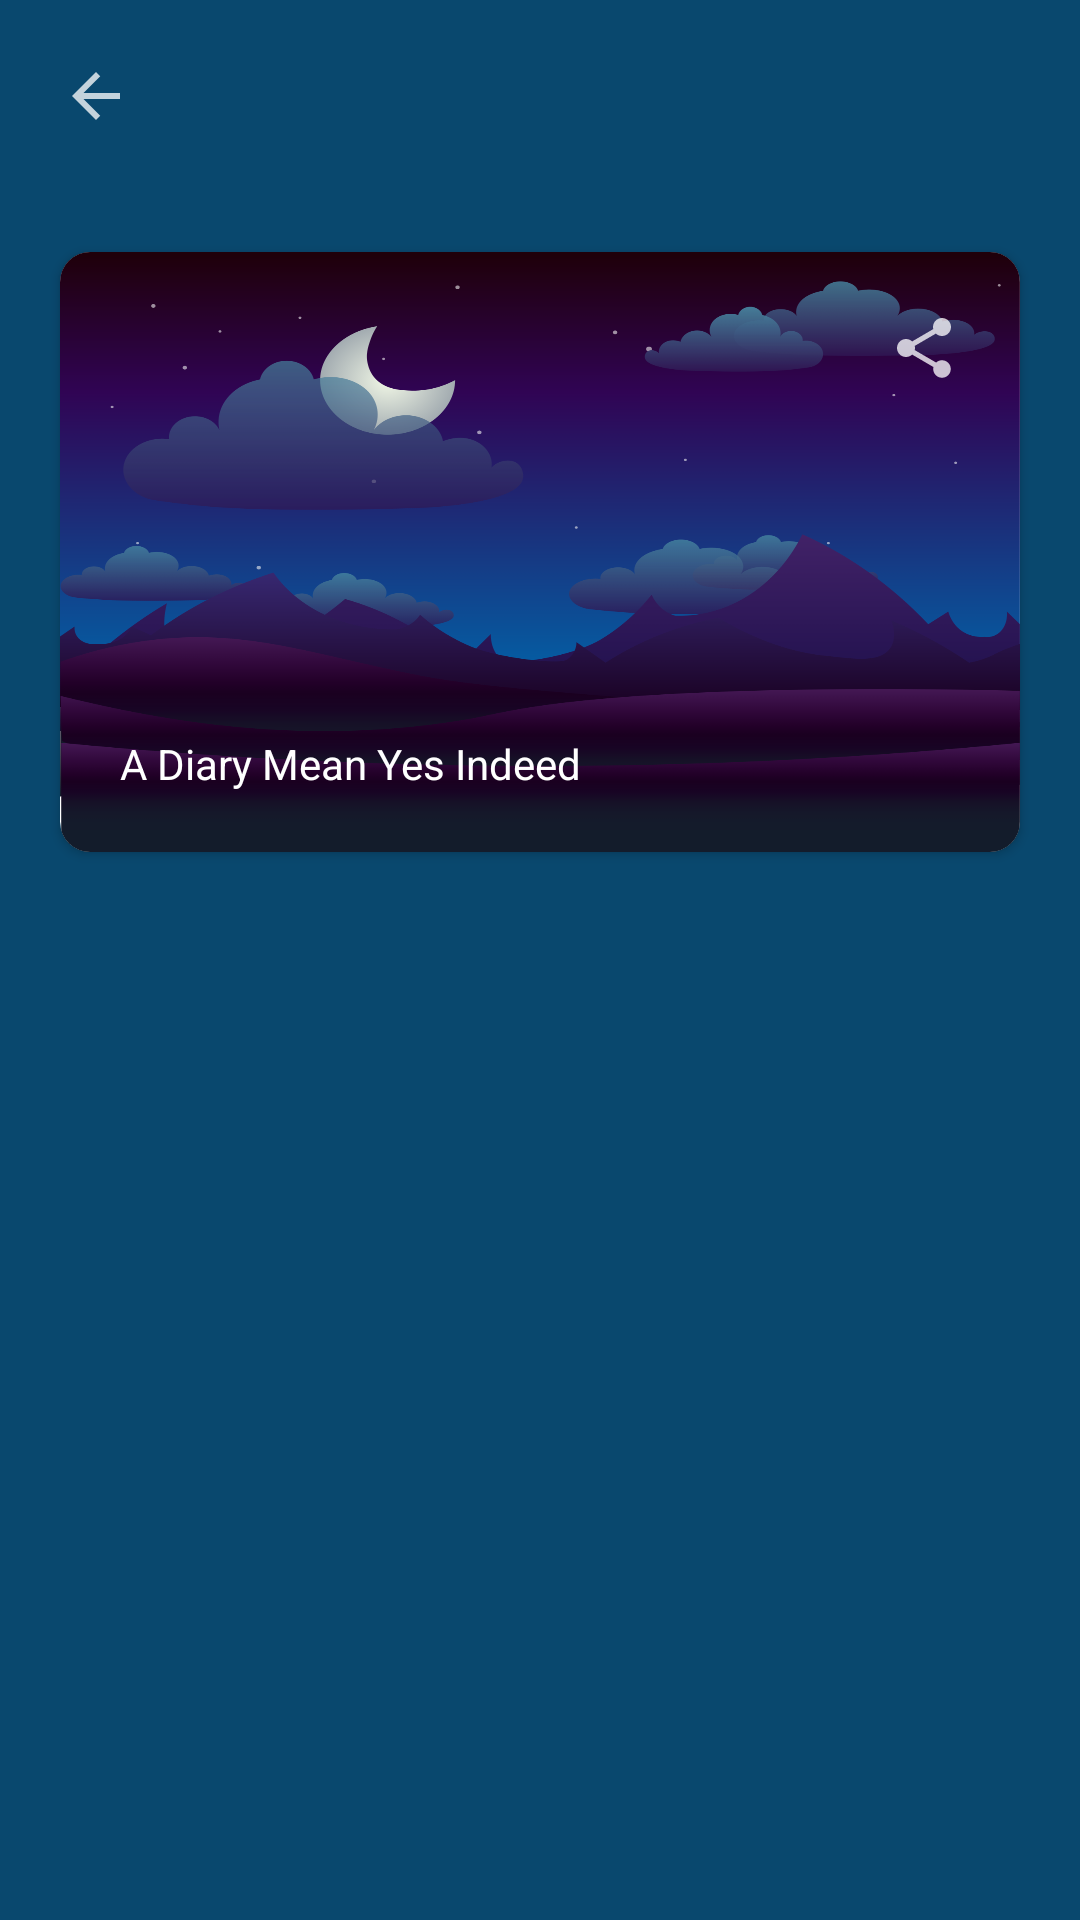

Icons on this 1080w x 1920h Android screen, each with the point to tap as point (x, y):
arrow back: point (96, 96)
share: point (924, 348)
